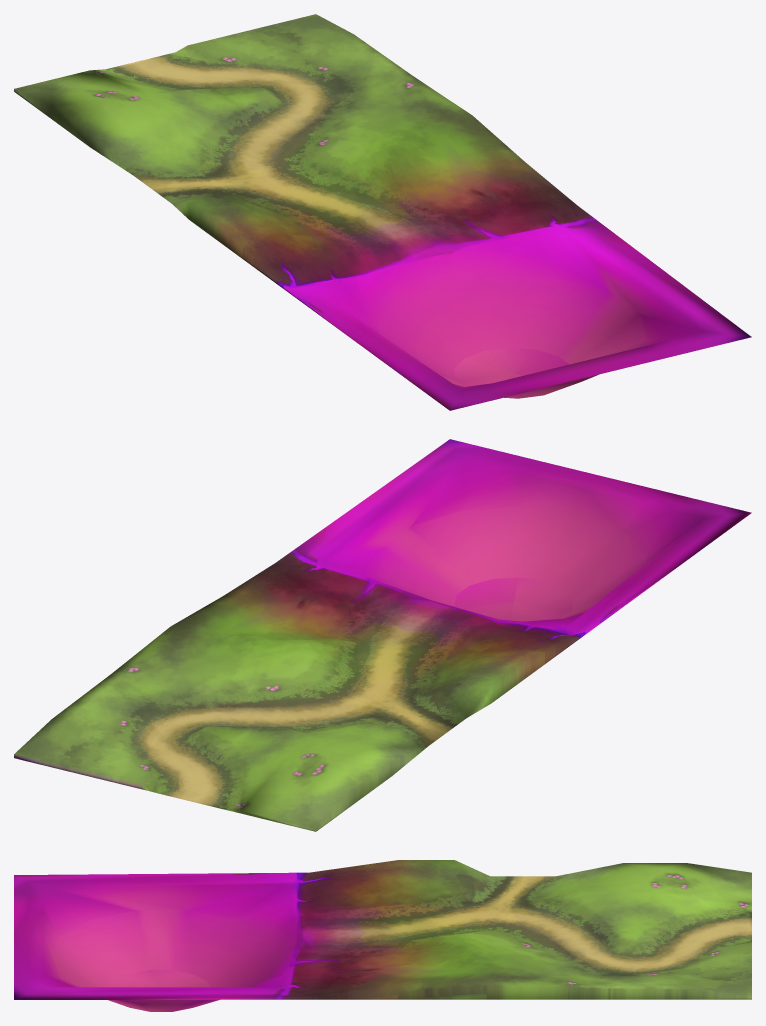
File: Stage1_Ground 1.fbx
3 views of the same model, one above another, from view 1: azimuth 30°, elevation 25°; view 2: azimuth 150°, elevation 25°; view 3: azimuth 270°, elevation 25° (orthographic). The views are drawn at different scales.
Visible parts, largest first — view 1: SM_Stage_1_Ground; view 2: SM_Stage_1_Ground; view 3: SM_Stage_1_Ground.
Part boxes in pixels (<box>): SM_Stage_1_Ground: <box>14,14,751,410</box>; SM_Stage_1_Ground: <box>14,439,751,831</box>; SM_Stage_1_Ground: <box>14,860,751,1011</box>.
Size of the model in its own units: 10000 by 25000 by 2736.
